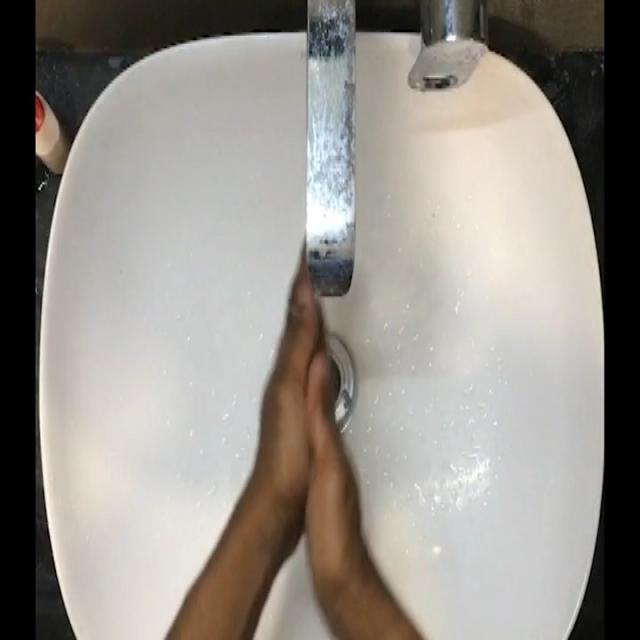step_1: (243, 207, 364, 525)
